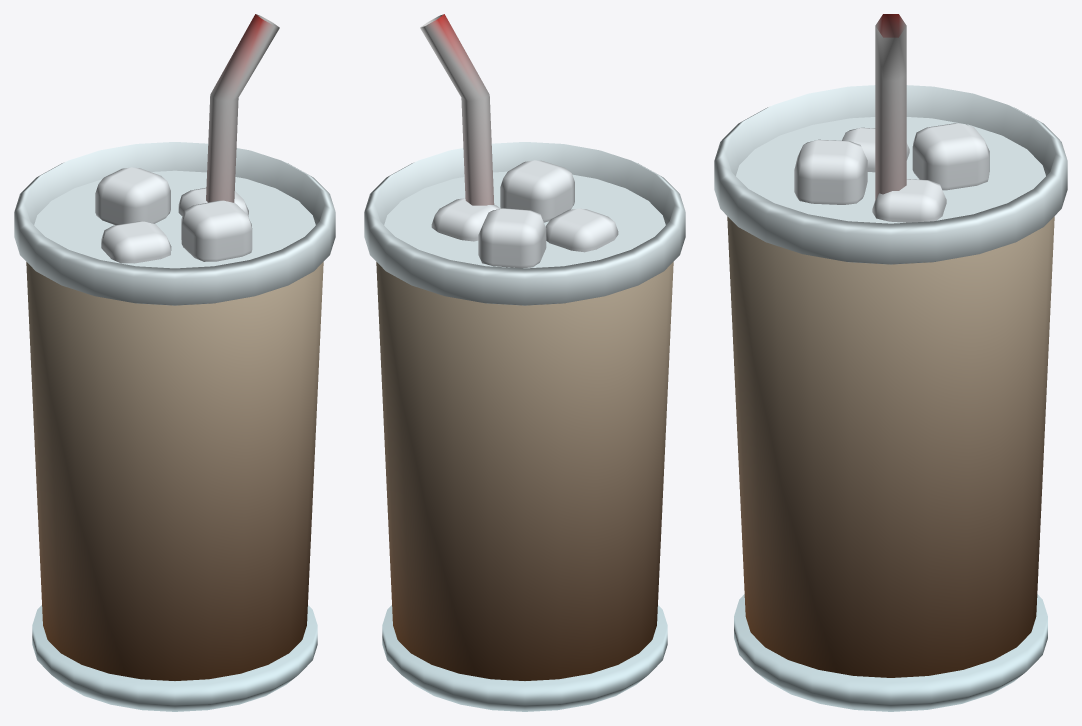
The model's file is item_drink_iced.glb.
3 views of the same model, side by side, from view 1: azimuth 30°, elevation 25°; view 2: azimuth 150°, elevation 25°; view 3: azimuth 270°, elevation 25° (orthographic). The views are drawn at different scales.
Visible parts, largest first — view 1: item_drink_iced_main, item_drink_iced_gloss; view 2: item_drink_iced_main, item_drink_iced_gloss; view 3: item_drink_iced_main, item_drink_iced_gloss.
Part boxes in pixels (box(x1,y1,x2,y2)): item_drink_iced_main: box(26, 14, 323, 680); item_drink_iced_gloss: box(14, 142, 335, 711); item_drink_iced_main: box(376, 14, 673, 680); item_drink_iced_gloss: box(364, 142, 685, 711); item_drink_iced_main: box(727, 14, 1054, 677); item_drink_iced_gloss: box(714, 85, 1067, 711).
Bounding box in the file's own units: 0.09 × 0.192 × 0.09.
